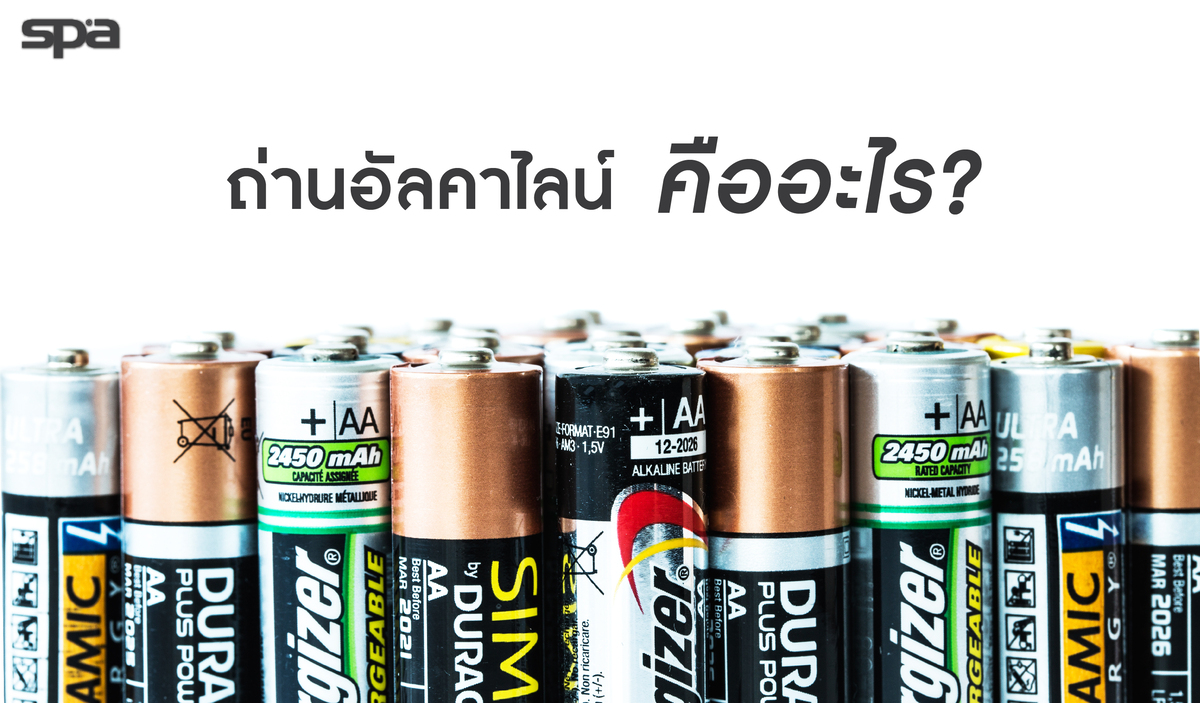Battery: (545, 346, 716, 703), (382, 340, 550, 703), (848, 330, 1001, 703), (118, 336, 270, 703), (250, 338, 399, 703), (706, 340, 854, 703), (991, 336, 1131, 703), (1, 346, 119, 703)
